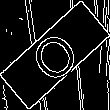O_SE: (24, 22, 86, 88)
